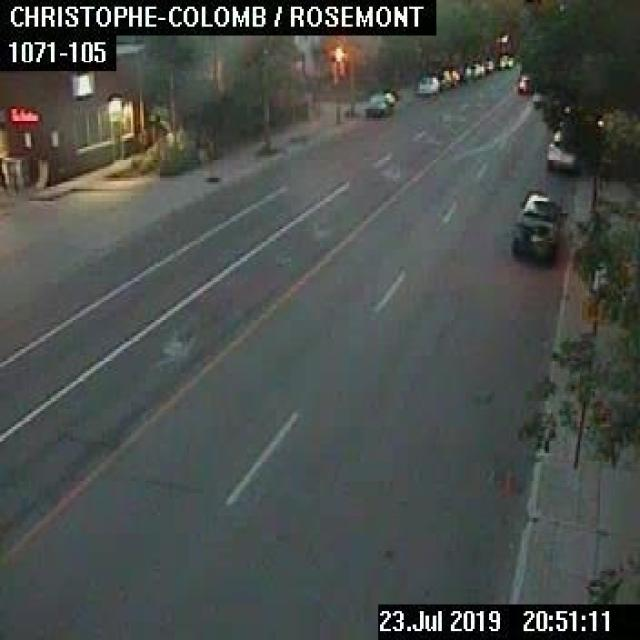vehicle: (509, 193, 566, 267), (546, 131, 574, 169), (364, 89, 394, 117), (416, 76, 436, 94), (516, 71, 533, 92), (433, 69, 450, 88), (464, 62, 482, 76), (497, 53, 513, 66), (449, 69, 458, 86), (482, 58, 492, 70)
